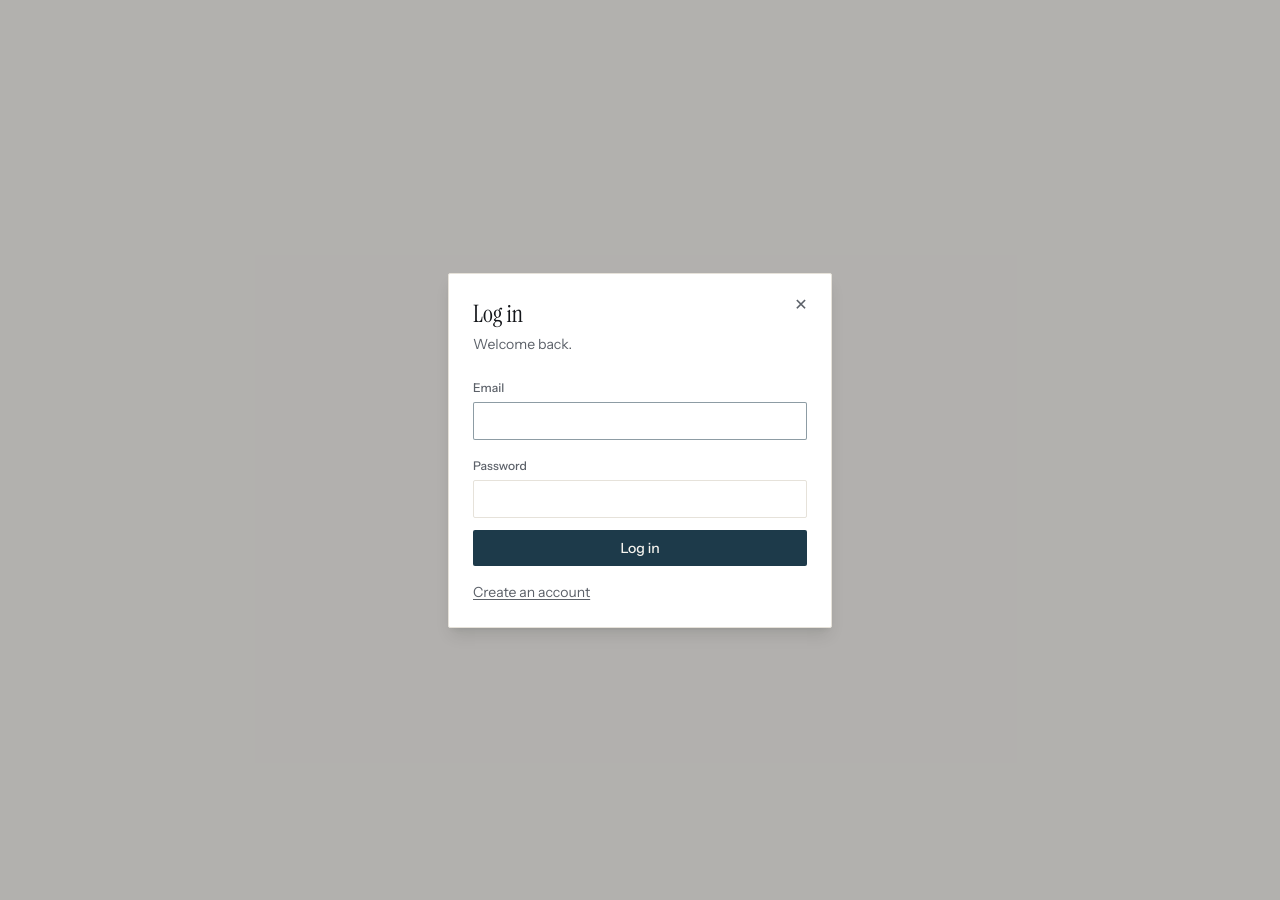
Test: <AccountDialog /> › clears the error when switching between logging in and signing up
Type "traveller@example.com" into the field labelled "Email" at [640, 420], box [473,402,807,440]
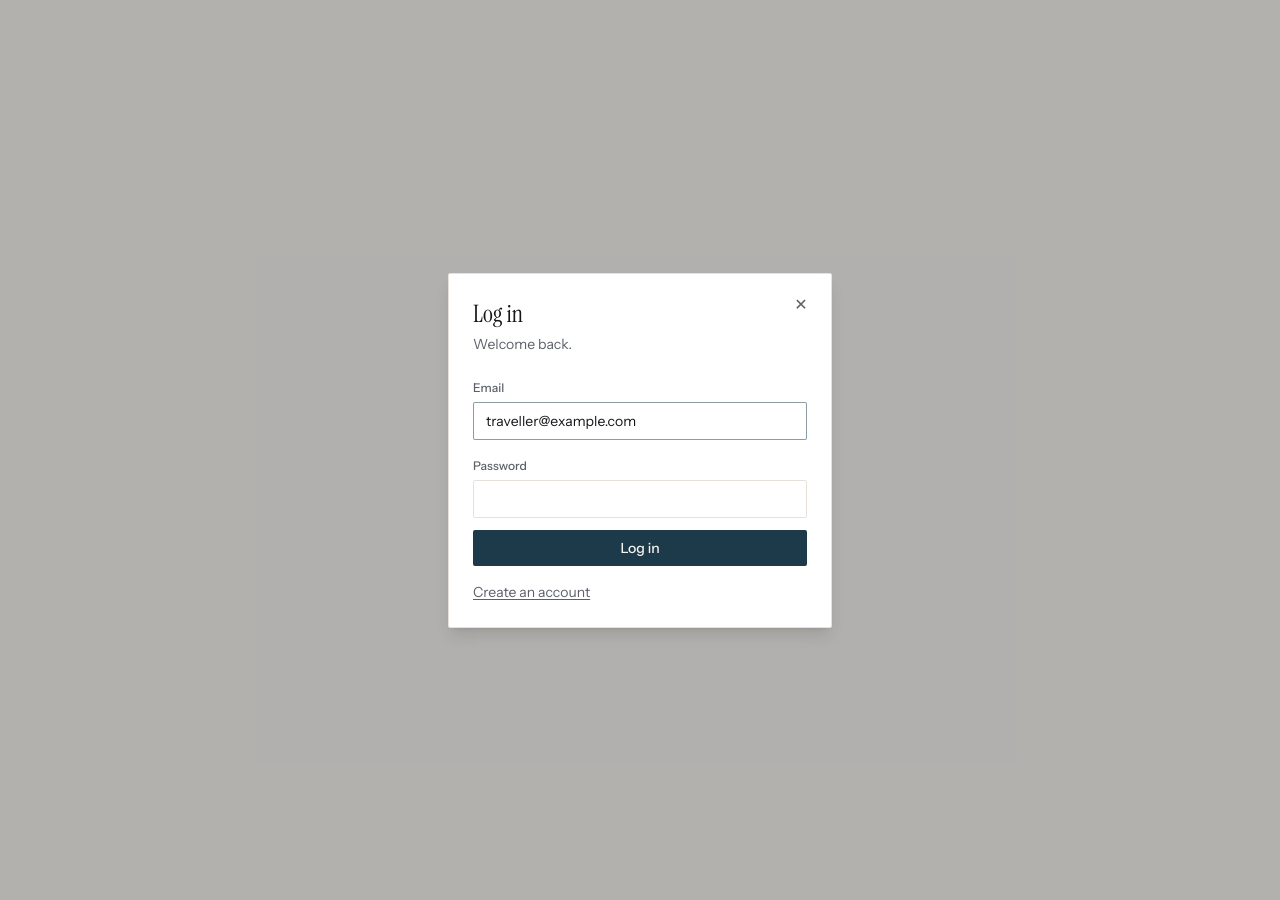
Type "wrong-password" into the password field labelled "Password" at [640, 498], box [473,480,807,518]
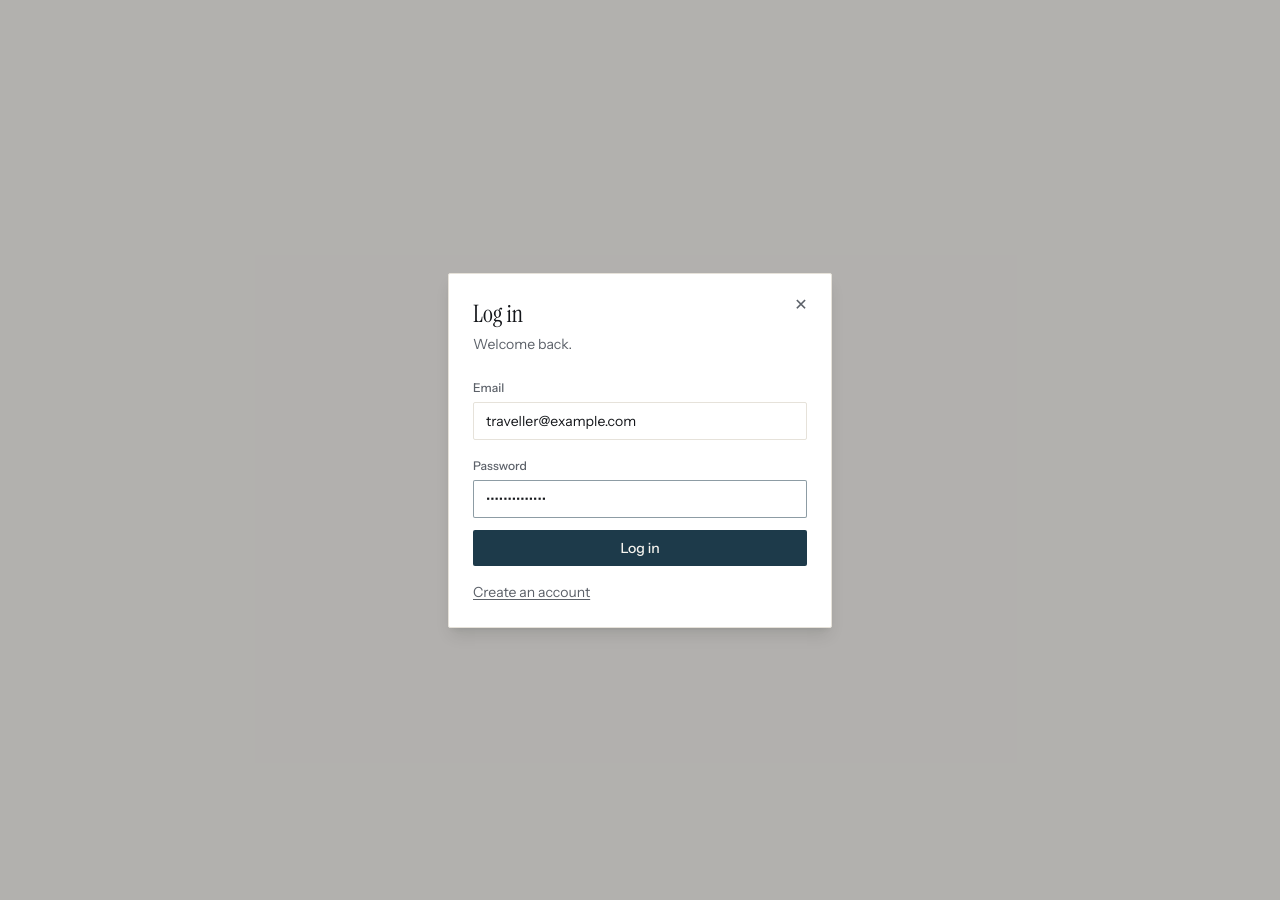
Click the button "Log in" at [640, 548], box [473,530,807,566]
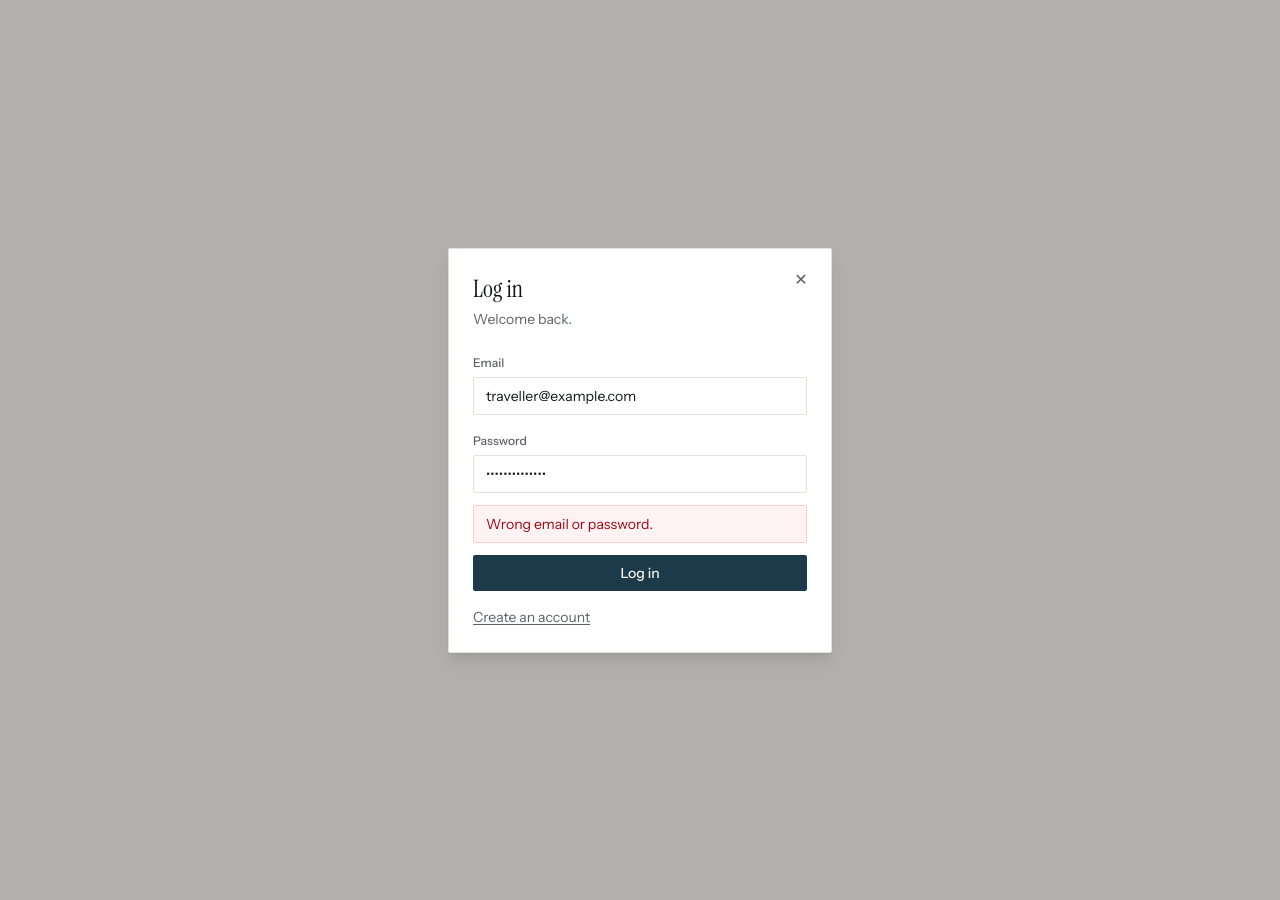
Result: the message "Wrong email or password." is shown at [473,504,807,542]
Click the button "Create an account" at [532, 616], box [473,606,590,626]
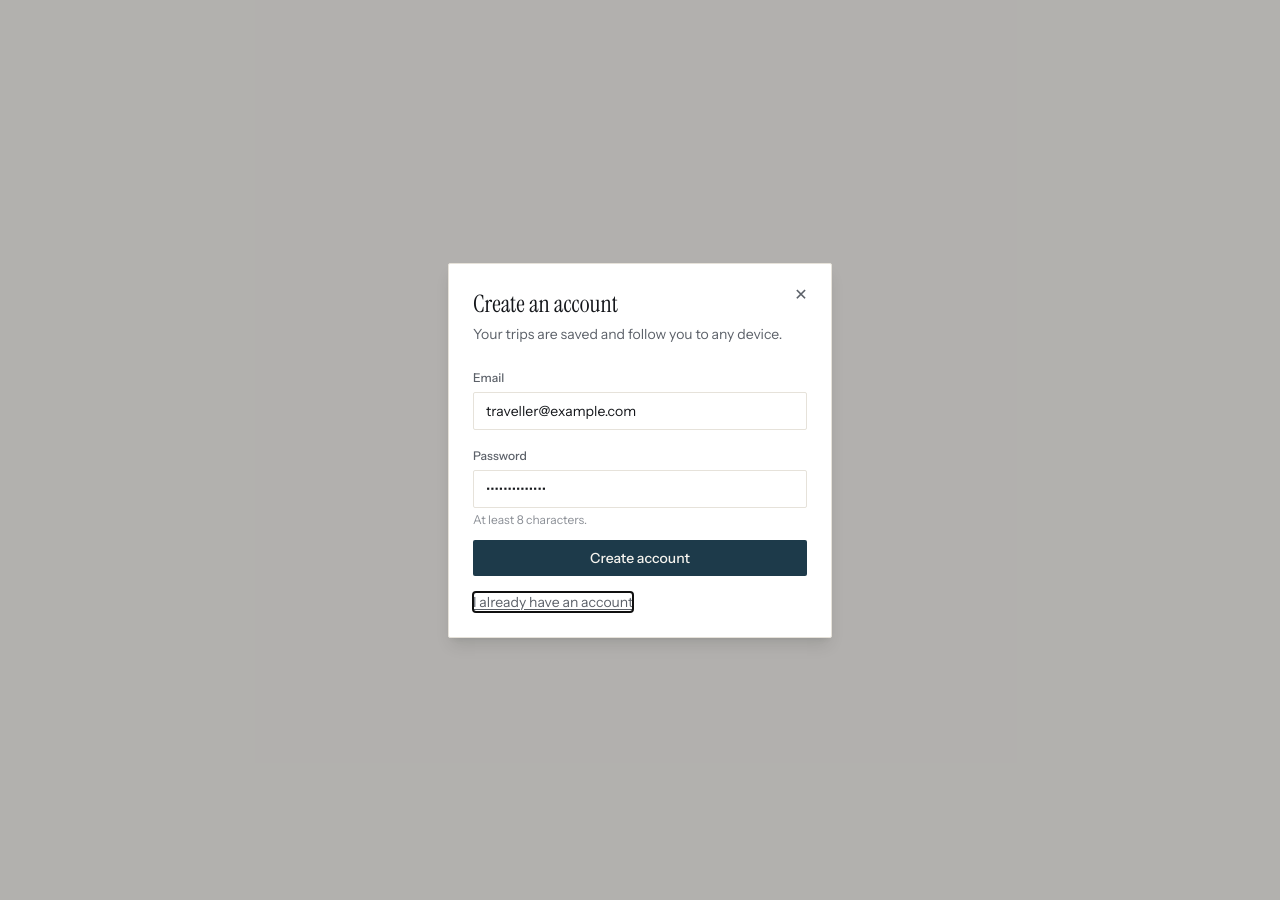
Result: the message "Wrong email or password." is gone
